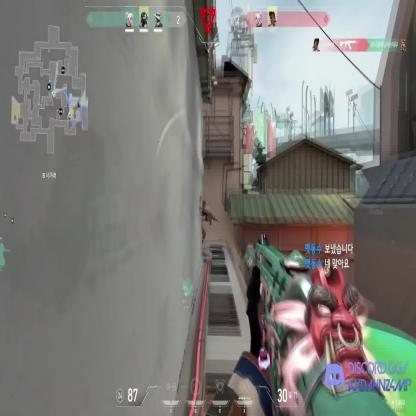enemy: (194, 199, 208, 251)
enemy_head: (201, 200, 206, 212)
